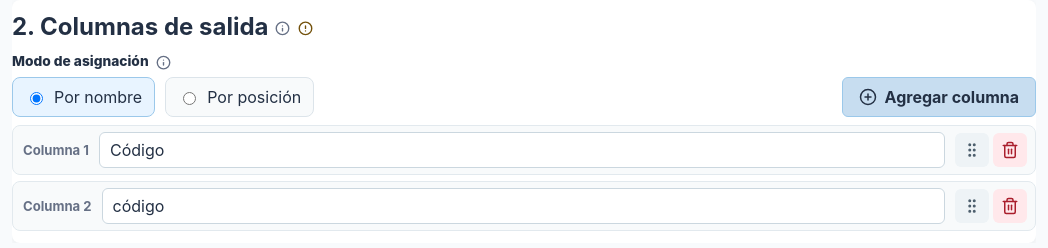
it: CombineOutputColumns › shows duplicate column warnings as a compact title tooltip
Expected: the text "Hay nombres de columnas de salida duplicados." is not shown
Hover over the button named "Advertencia: 2. Columnas de salida" at (306, 28), box [298,20,314,37]
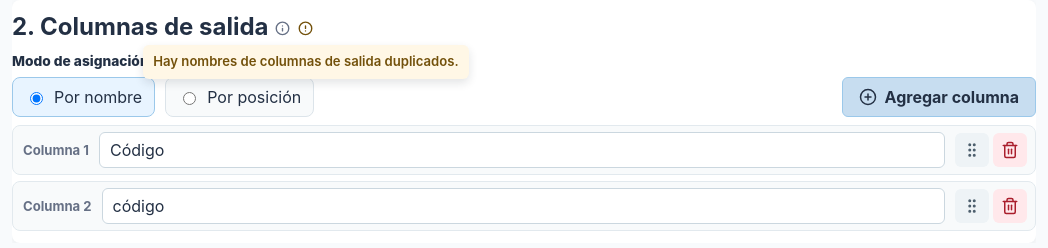
Expected: the tooltip reads "Hay nombres de columnas de salida duplicados.", [153,53,459,69]
